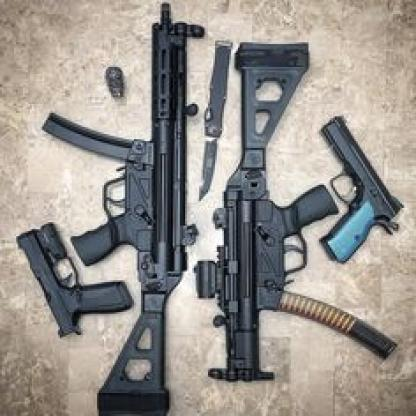Gun: (193, 40, 398, 384), (41, 2, 206, 416)
Knife: (196, 37, 234, 202)
Pistol: (16, 220, 134, 340), (318, 113, 405, 266)
